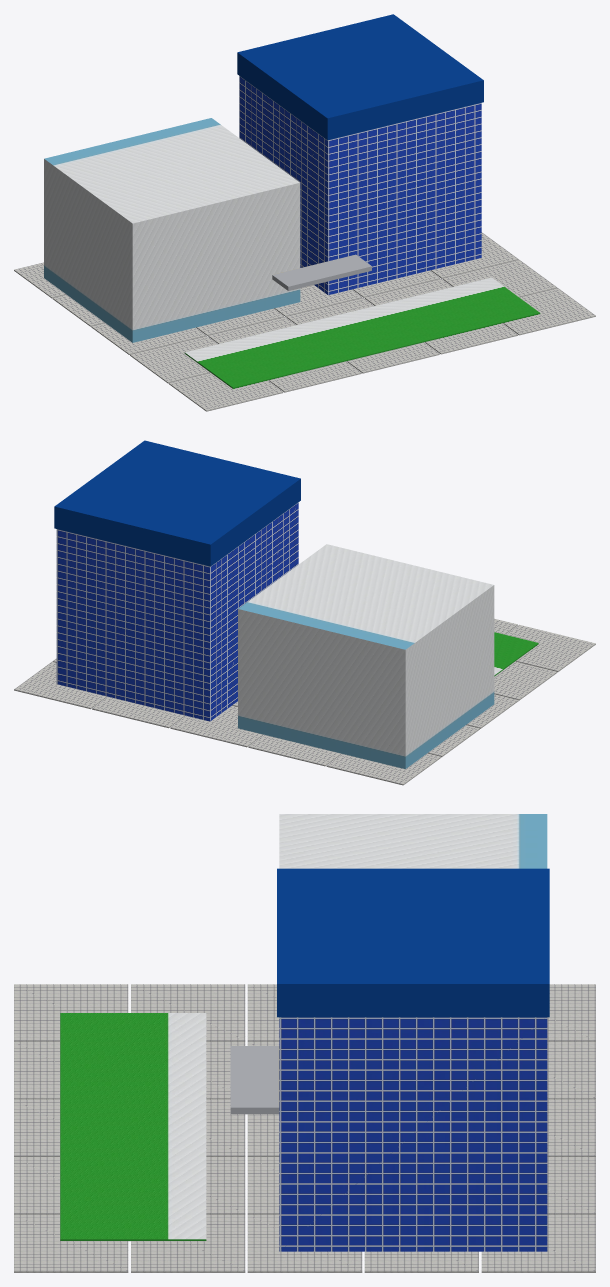
3 renders of one model, top to bottom at view 1: azimuth 30°, elevation 25°; view 2: azimuth 150°, elevation 25°; view 3: azimuth 270°, elevation 25°, orthographic. The views are drawn at different scales.
Parts seen in each view (by area): view 1: 28185_B40_KBSI_Songdo_Center; view 2: 28185_B40_KBSI_Songdo_Center; view 3: 28185_B40_KBSI_Songdo_Center.
Boxes of the visible parts, x1,y1,x2,y2 form: 28185_B40_KBSI_Songdo_Center: (14, 14, 595, 411); 28185_B40_KBSI_Songdo_Center: (14, 440, 595, 785); 28185_B40_KBSI_Songdo_Center: (14, 814, 595, 1272).
Size of the model in its own units: 55.8 by 24.5 by 47.8.
Materials: 1 (1 with a texture image).
